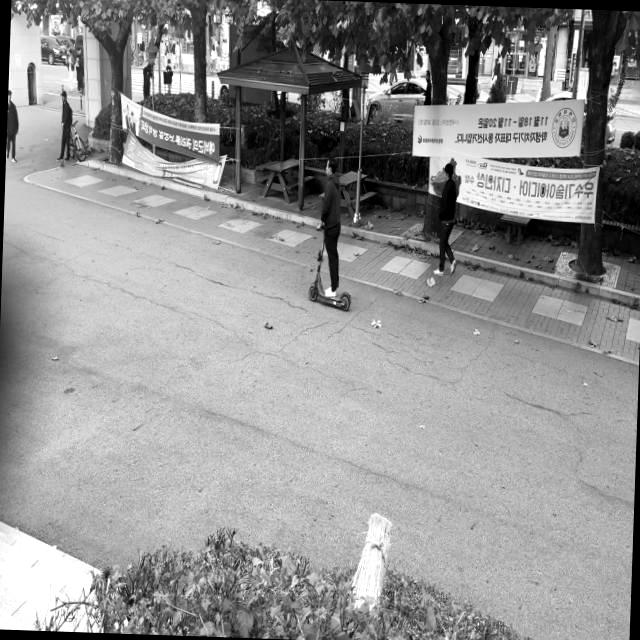bare_head: (321, 156, 344, 180)
human: (314, 154, 342, 295)
kickboard: (296, 267, 356, 322)
